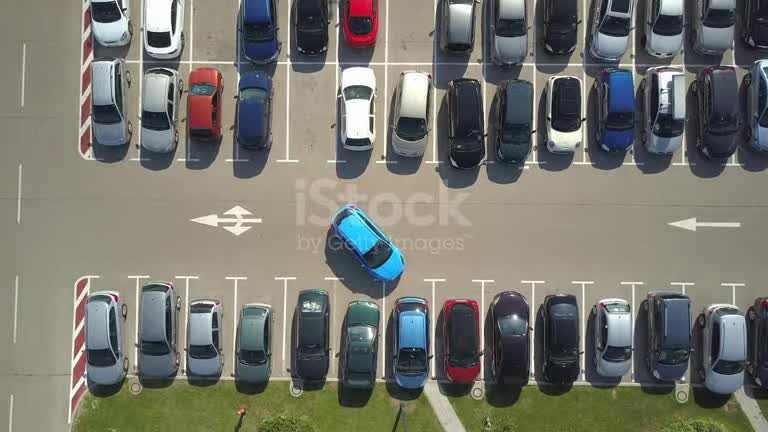car: (331, 204, 404, 280), (692, 66, 740, 158), (697, 304, 746, 393), (643, 292, 691, 380), (137, 282, 180, 378), (85, 291, 128, 385), (640, 66, 686, 153), (489, 291, 530, 385), (445, 78, 485, 168), (91, 58, 132, 145), (392, 297, 431, 388), (140, 68, 182, 152), (391, 70, 432, 156), (493, 79, 534, 162), (542, 294, 580, 383), (293, 289, 330, 380), (594, 68, 634, 151), (341, 301, 379, 388), (442, 299, 481, 383), (592, 298, 632, 377), (235, 303, 273, 384), (544, 76, 584, 152), (340, 67, 375, 150), (186, 299, 223, 376), (235, 71, 272, 148), (589, 0, 633, 61), (187, 67, 223, 141), (489, 0, 528, 65), (240, 0, 280, 63), (143, 0, 185, 59), (692, 0, 735, 54), (644, 0, 684, 57), (744, 60, 767, 151), (542, 0, 580, 54), (293, 0, 330, 55), (90, 0, 133, 47), (440, 0, 477, 53), (746, 297, 767, 388), (343, 0, 378, 47), (741, 0, 767, 48)
